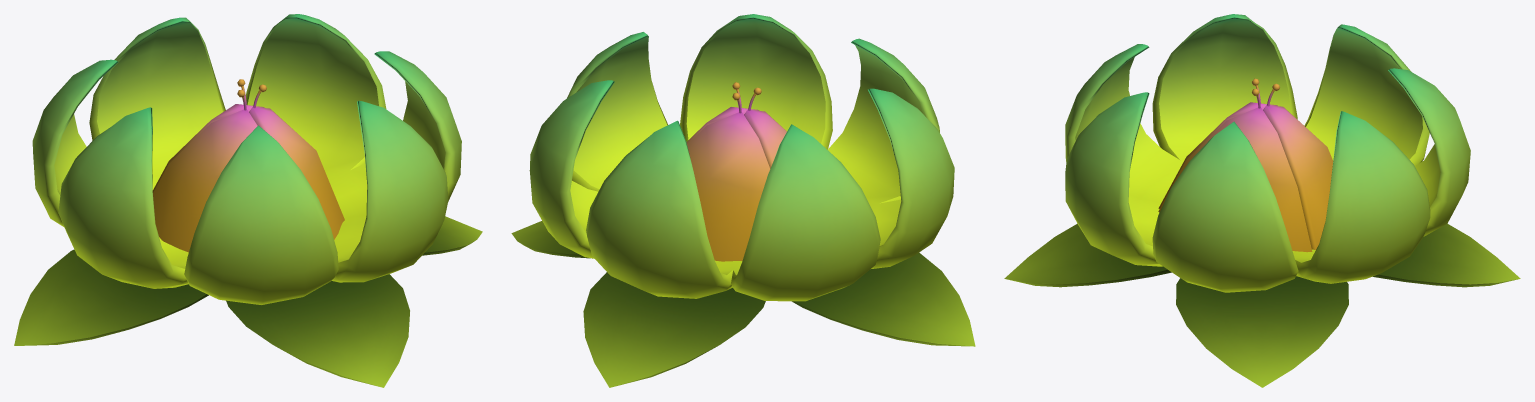
Rendered from flowerSucculent.fbx.
The picture shows the model from 3 angles, left to right: view 1: azimuth 30°, elevation 25°; view 2: azimuth 150°, elevation 25°; view 3: azimuth 270°, elevation 25°; orthographic projection. The views are drawn at different scales.
Parts seen in each view (by area): view 1: flowerSucculent; view 2: flowerSucculent; view 3: flowerSucculent.
Part boxes in pixels (<box>): flowerSucculent: <box>14,14,482,387</box>; flowerSucculent: <box>511,14,975,387</box>; flowerSucculent: <box>1004,14,1520,387</box>.
Size of the model in its own units: 22.24 by 10.04 by 22.24.
1 material, 1 textured.
